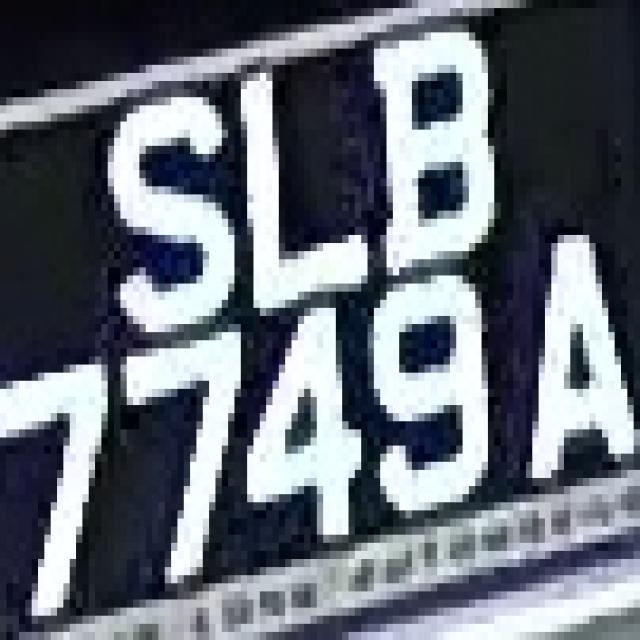4: (228, 308, 380, 559)
7: (101, 348, 260, 600), (0, 332, 133, 624)
9: (348, 259, 507, 527)
A: (501, 219, 634, 502)
B: (348, 17, 501, 276)
L: (215, 49, 374, 308)
S: (63, 73, 247, 340)
